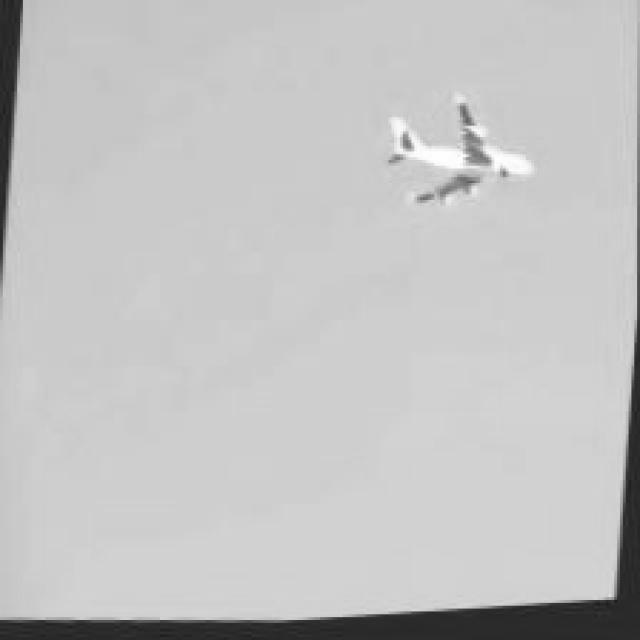aeroplane: (374, 88, 540, 223)
